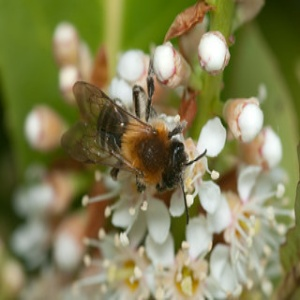bee: (61, 70, 210, 226)
